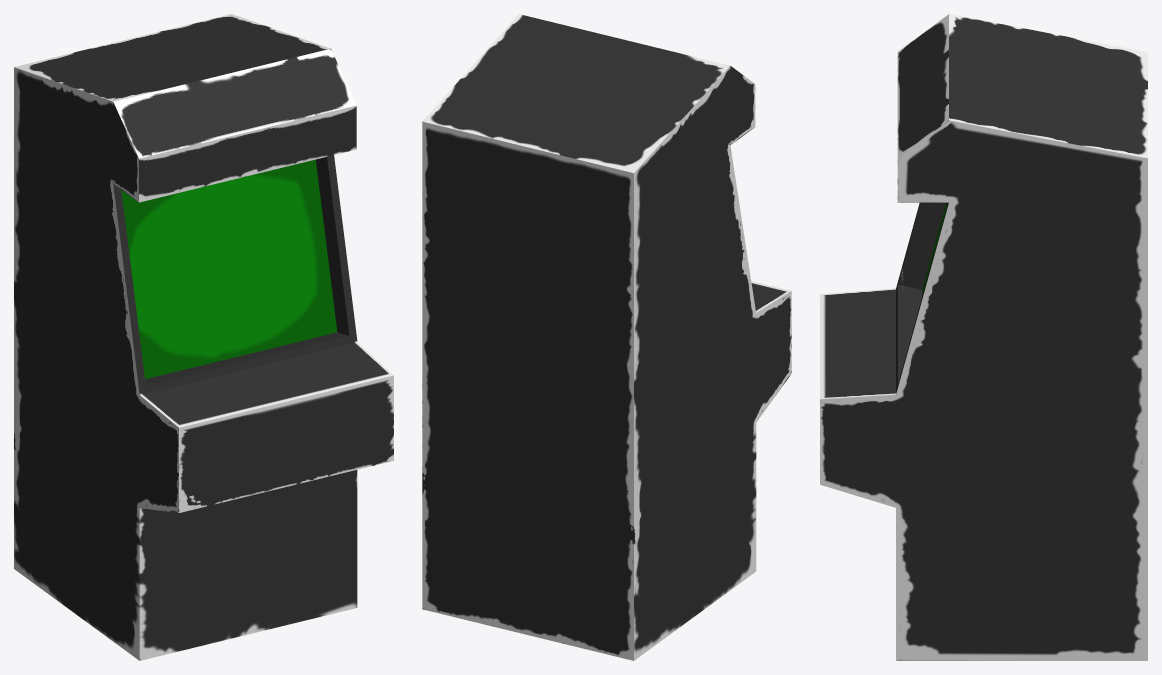
File: Arcade_Machine.fbx
3 renders of one model, left to right at view 1: azimuth 30°, elevation 25°; view 2: azimuth 150°, elevation 25°; view 3: azimuth 270°, elevation 25°, orthographic. The views are drawn at different scales.
Visible parts, largest first — view 1: Cube; view 2: Cube; view 3: Cube.
Boxes of the visible parts, x1=… form: Cube: x1=14, y1=14, x2=393, y2=660; Cube: x1=422, y1=14, x2=791, y2=660; Cube: x1=820, y1=14, x2=1147, y2=660.
Bounding box in the file's own units: 200 × 474 × 260.
